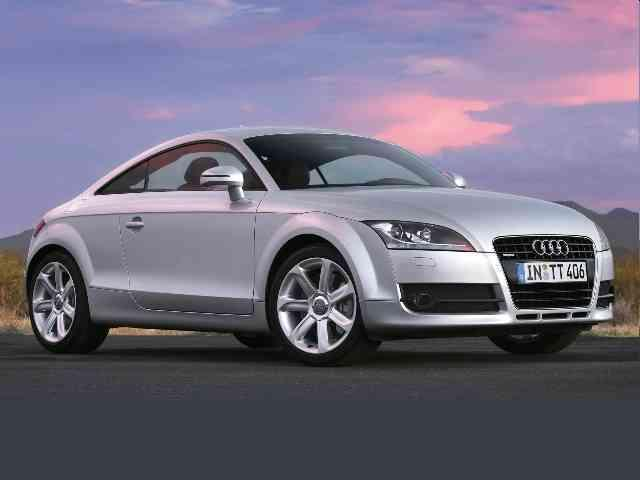Audi: (527, 236, 576, 261)
